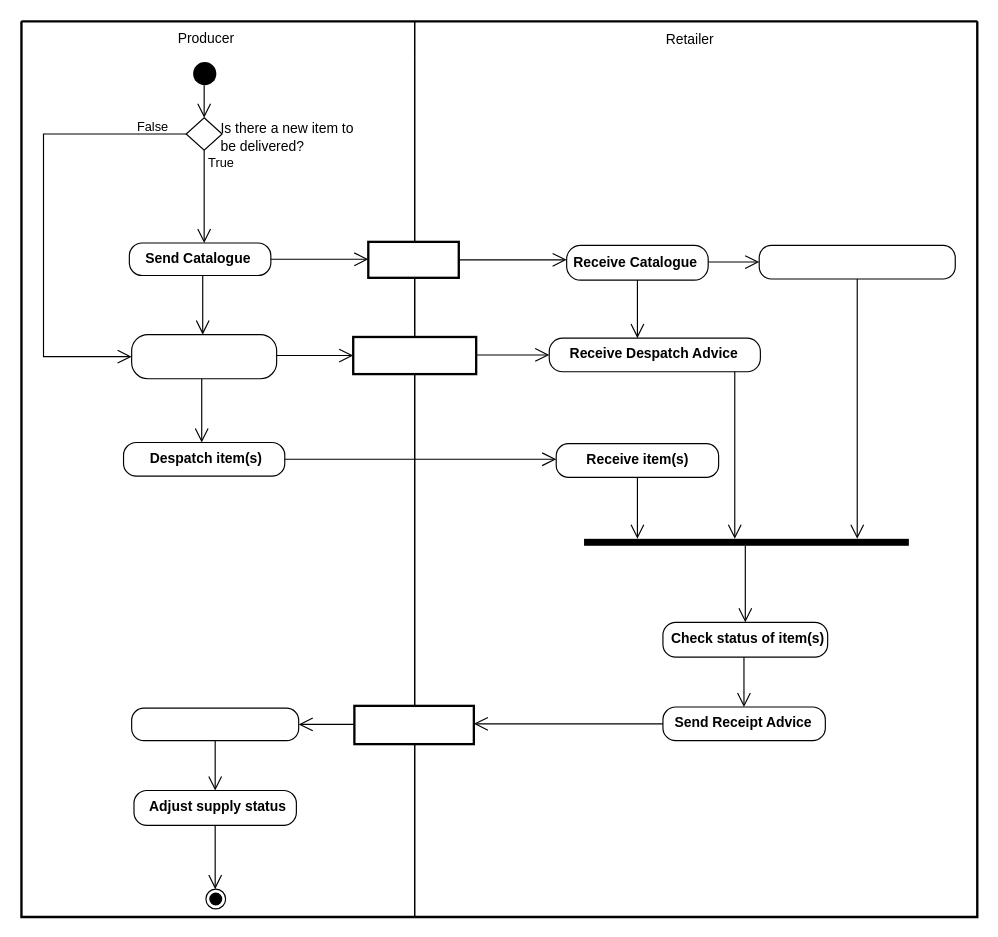
Some shapes in this 998 by 937 pixel diagram are drawn without their labels. Each missing label, with the centre of its shape:
"Catalogue" goes at point (413, 259).
"Despatch Advice" goes at point (414, 355).
"Receipt Advice" goes at point (413, 724).
"Receive Receipt Advice" goes at point (214, 724).
"Send Despatch Advice" goes at point (203, 356).
"Update products database" goes at point (856, 261).
